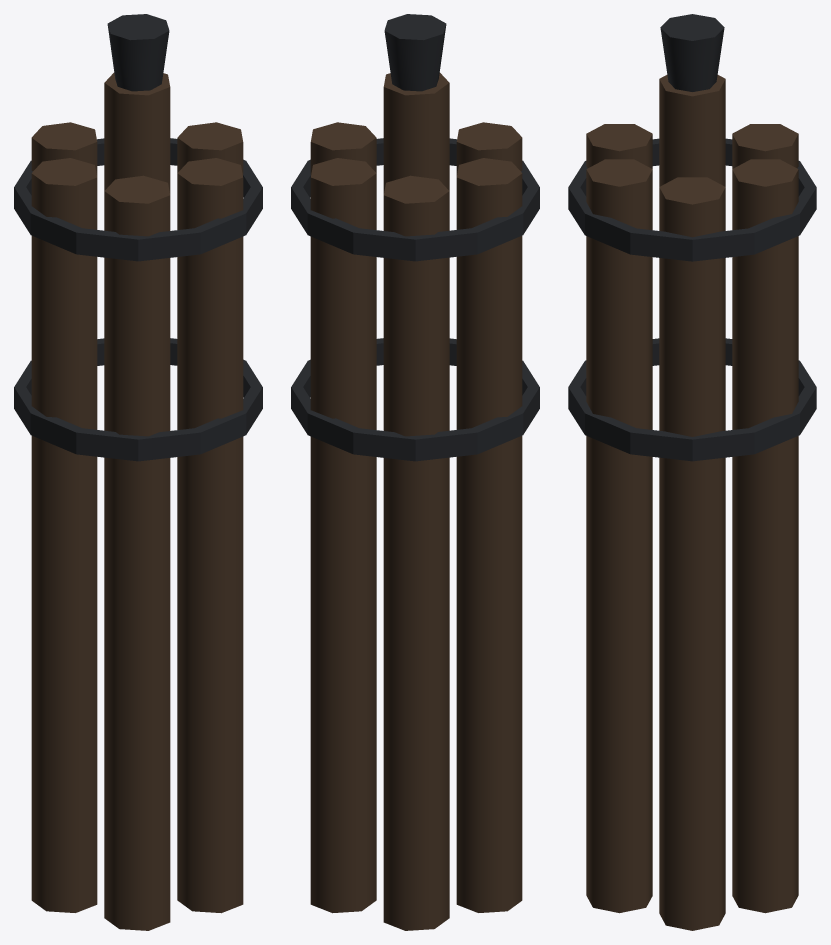
Rendered from hb_dolphin.glb.
The picture shows the model from 3 angles, left to right: view 1: azimuth 30°, elevation 25°; view 2: azimuth 150°, elevation 25°; view 3: azimuth 270°, elevation 25°; orthographic projection.
Visible parts, largest first — view 1: hb_dolphin; view 2: hb_dolphin; view 3: hb_dolphin.
Part boxes in pixels (x1,y1,x2,y2): hb_dolphin: (14,14,262,930); hb_dolphin: (291,14,539,930); hb_dolphin: (568,14,816,930).
Size of the model in its own units: 1.24 by 4.7 by 1.24.
